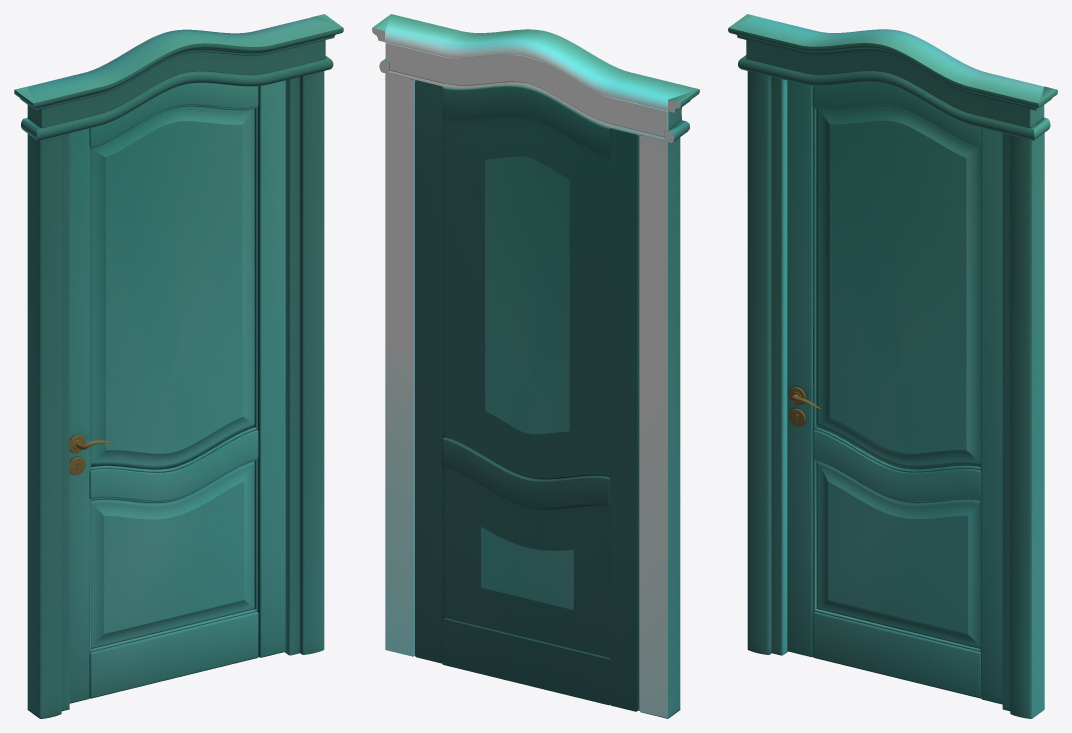
Rendered from Porta-animata-2.glb.
3 renders of one model, left to right at view 1: azimuth 30°, elevation 25°; view 2: azimuth 150°, elevation 25°; view 3: azimuth 330°, elevation 25°, orthographic.
Visible parts, largest first — view 1: Porta_, Cornice; view 2: Porta_, Cornice; view 3: Porta_, Cornice.
Part boxes in pixels (x1=…): Porta_: x1=69, y1=80, x2=285, y2=703; Cornice: x1=14, y1=14, x2=343, y2=718; Porta_: x1=415, y1=80, x2=639, y2=711; Cornice: x1=372, y1=14, x2=699, y2=718; Porta_: x1=787, y1=80, x2=1002, y2=704; Cornice: x1=728, y1=14, x2=1057, y2=718.
Bounding box in the file's own units: 1.06 × 2.1 × 0.1184.
4 materials, 2 textured.
